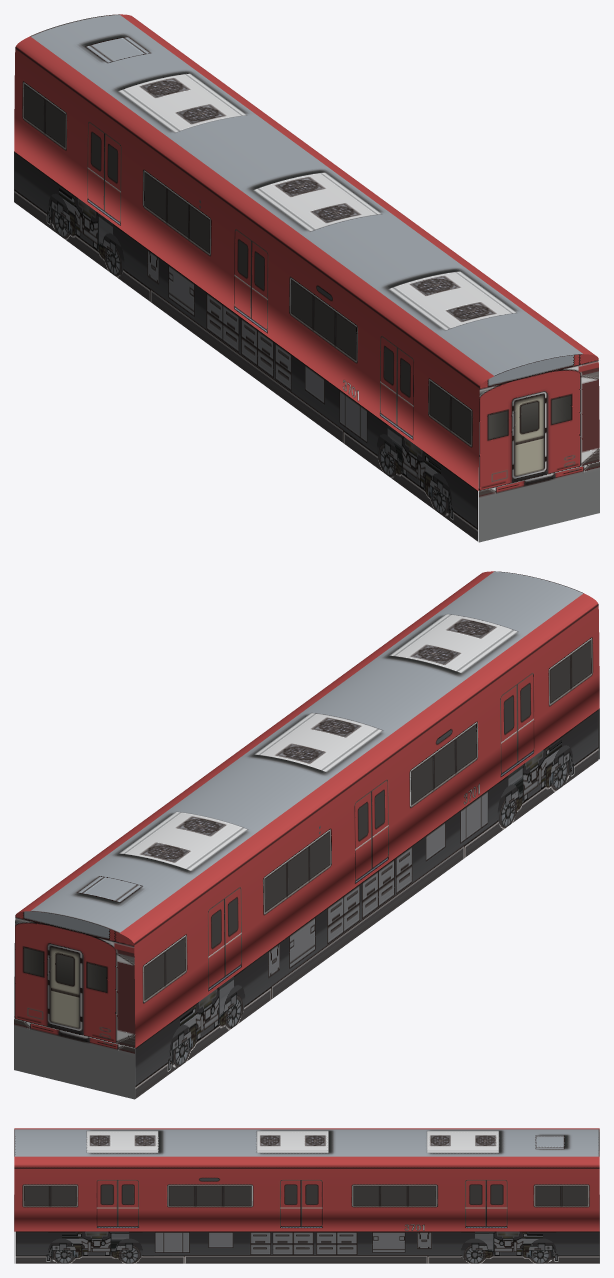
Rendered from car3.glb.
3 views of the same model, one above another, from view 1: azimuth 30°, elevation 25°; view 2: azimuth 150°, elevation 25°; view 3: azimuth 270°, elevation 25° (orthographic). The views are drawn at different scales.
Parts seen in each view (by area): view 1: meitetsu-3700-car3; view 2: meitetsu-3700-car3; view 3: meitetsu-3700-car3.
Boxes of the visible parts, x1,y1,x2,y2 form: meitetsu-3700-car3: [14, 14, 599, 542]; meitetsu-3700-car3: [14, 571, 599, 1099]; meitetsu-3700-car3: [14, 1128, 599, 1263].
Bounding box in the file's own units: 2.74 × 3.6 × 18.26.
Materials: 9 (8 with a texture image).
